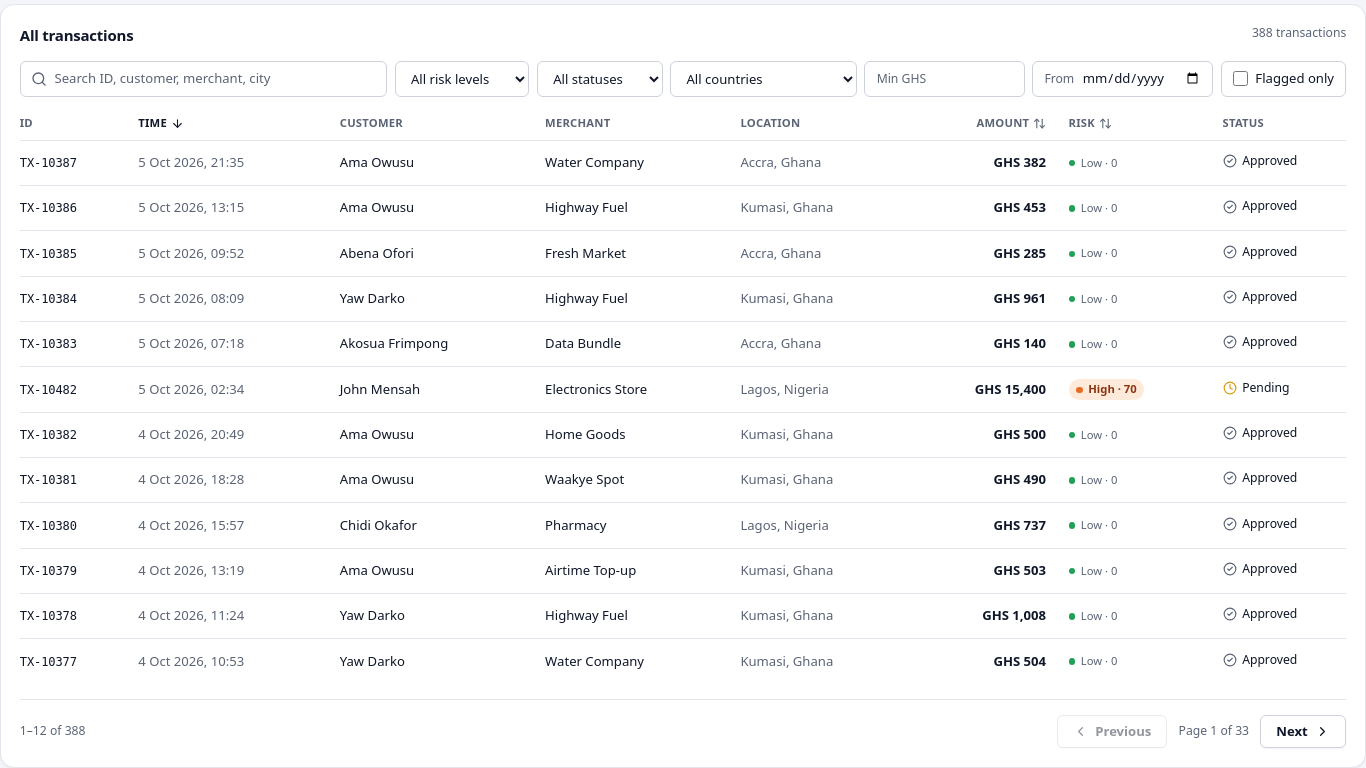
Dashboard › pages through results
This screenshot has width=1366, height=768.
(page scrolled)
expect the button "Previous" is disabled: met, box [1057,715,1167,748]
Click the button "Next".
click(1303, 732)  # box [1260,715,1346,748]
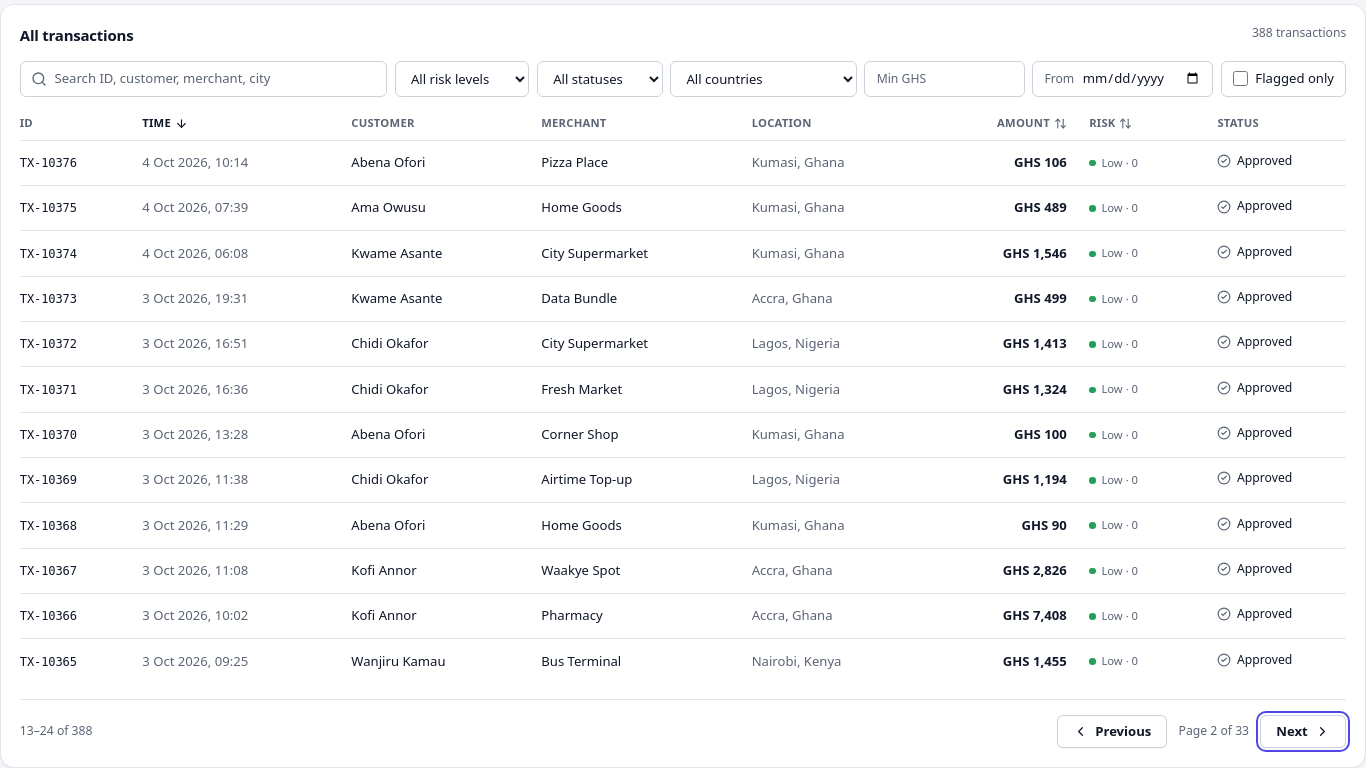
expect the text "Page 2 of 33" is shown: met, box [1179,722,1249,741]
